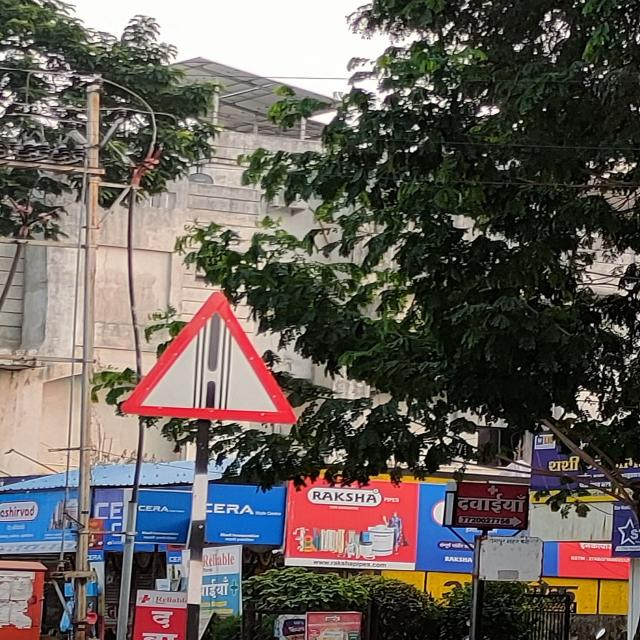GAP_IN_MEDIAN: (119, 290, 295, 423)
